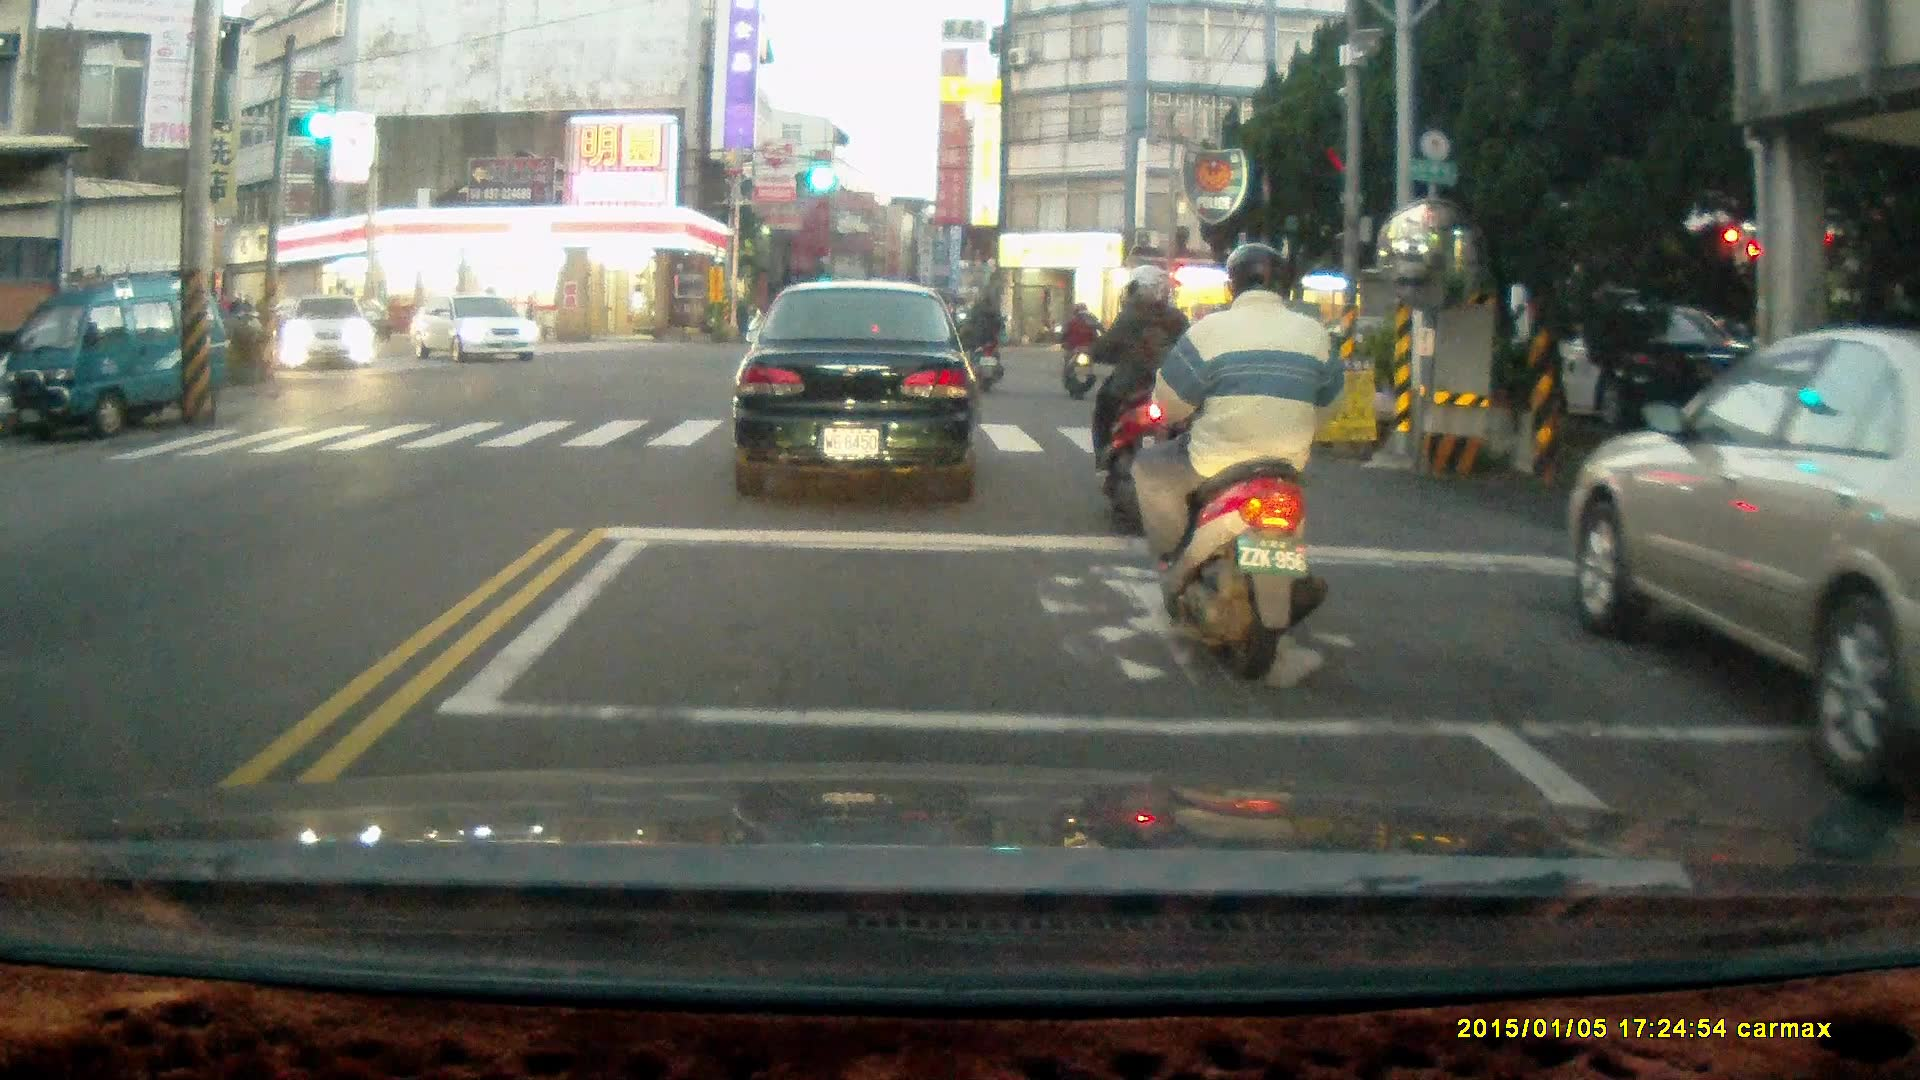rider: (1135, 238, 1346, 685), (1070, 256, 1206, 533), (956, 287, 1015, 392), (1054, 298, 1098, 399)
vehicle: (1566, 321, 1920, 808), (727, 277, 985, 502), (1479, 292, 1785, 437), (5, 275, 236, 441), (411, 293, 542, 364), (274, 296, 381, 372)
